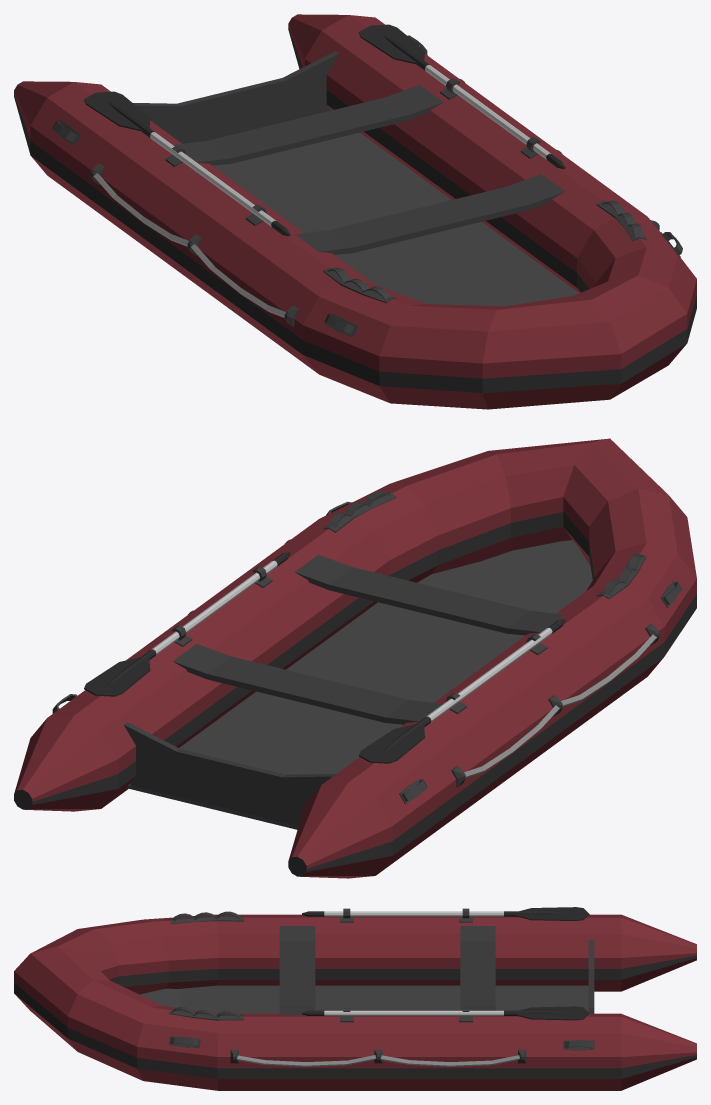
File: Inflatable Boat C.fbx
The picture shows the model from 3 angles, top to bottom: view 1: azimuth 30°, elevation 25°; view 2: azimuth 150°, elevation 25°; view 3: azimuth 270°, elevation 25°; orthographic projection. The views are drawn at different scales.
Visible parts, largest first — view 1: Inflatable Boat C; view 2: Inflatable Boat C; view 3: Inflatable Boat C.
Part boxes in pixels (x1,y1,x2,y2): Inflatable Boat C: [14, 14, 696, 409]; Inflatable Boat C: [14, 438, 696, 878]; Inflatable Boat C: [14, 907, 696, 1090].
Bounding box in the file's own units: 179 × 56.9 × 384.
